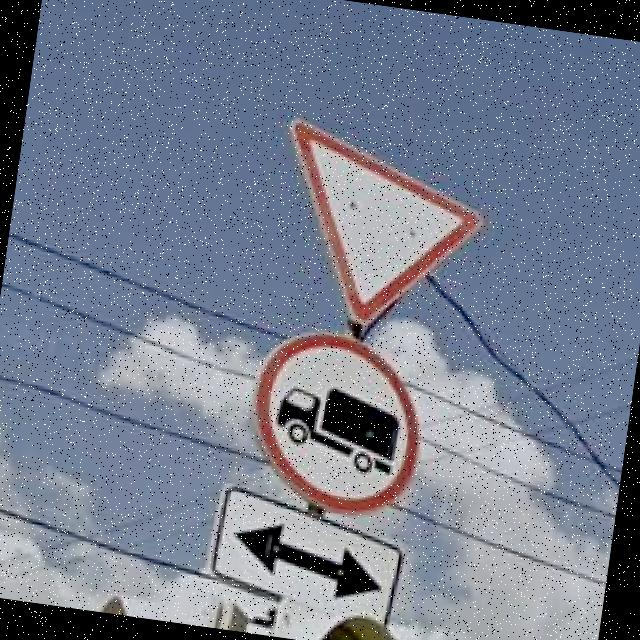Ustap pierwszenstwa: (262, 120, 496, 342)
